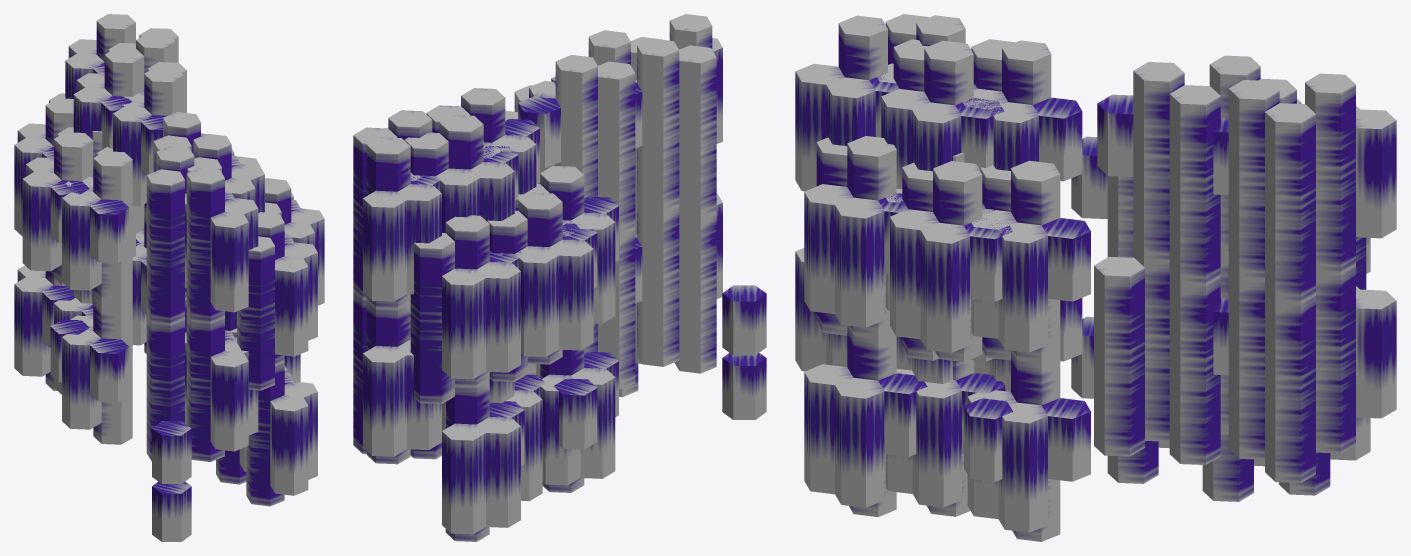
File: HexMWall2.fbx
3 views of the same model, side by side, from view 1: azimuth 30°, elevation 25°; view 2: azimuth 150°, elevation 25°; view 3: azimuth 270°, elevation 25° (orthographic). The views are drawn at different scales.
Parts seen in each view (by area): view 1: polySurface469; view 2: polySurface469; view 3: polySurface469.
Boxes of the visible parts, x1=… form: polySurface469: x1=14, y1=14, x2=324, y2=541; polySurface469: x1=353, y1=14, x2=766, y2=541; polySurface469: x1=795, y1=14, x2=1396, y2=541.
Size of the model in its own units: 40.11 by 64.64 by 79.08.
1 material, 1 textured.
